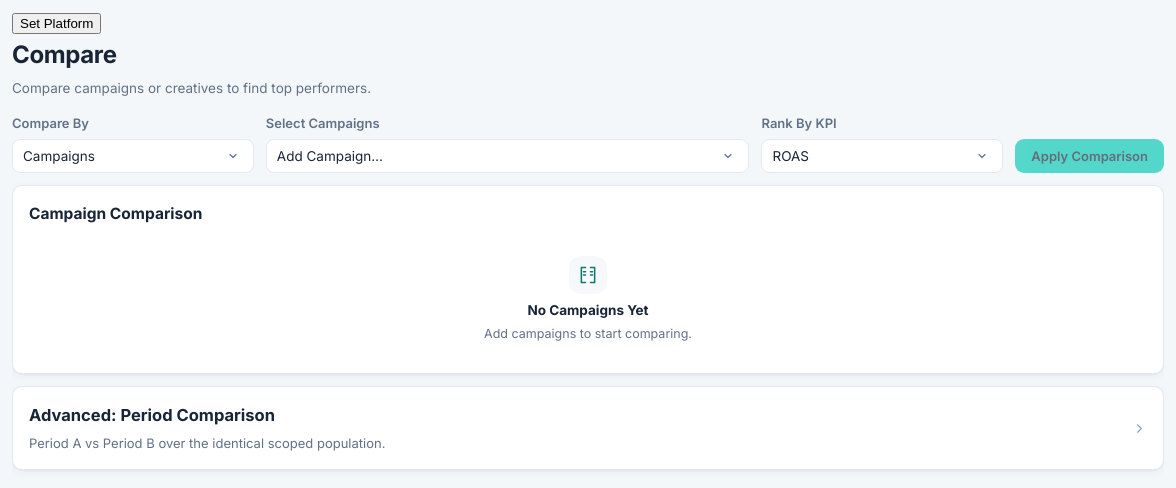
Test: ComparePage › names genuinely empty catalogues instead of an incomplete pick
Expected: the text "No Campaigns Yet" is shown, x1=527 y1=300 x2=648 y2=321
Expected: the text "Add campaigns to start comparing." is shown, x1=484 y1=325 x2=692 y2=343
Select "Creatives" in the dropdown labelled "Compare By": (133, 156) x1=12 y1=139 x2=254 y2=173
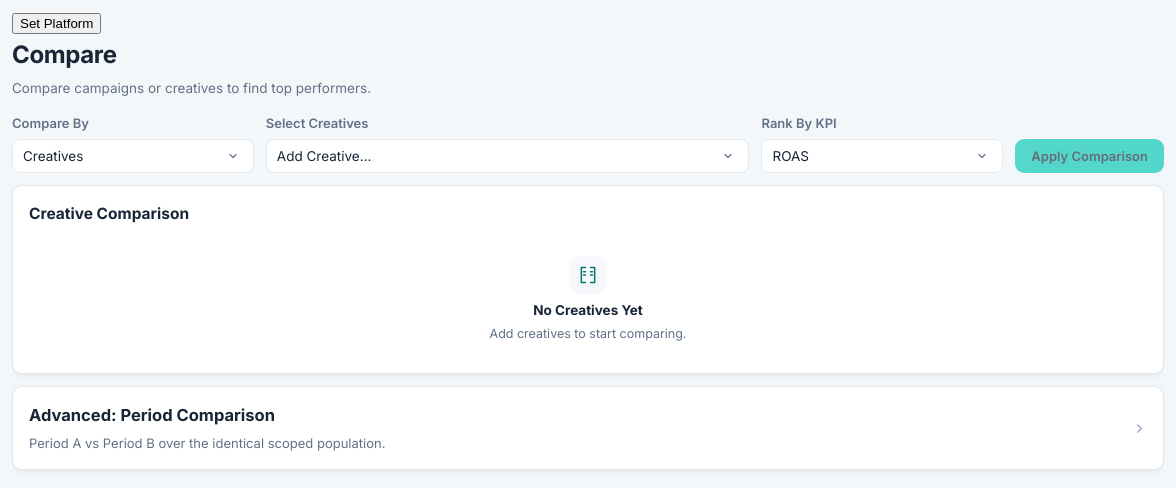
Now the text "No Creatives Yet" is shown, box x1=533 y1=300 x2=643 y2=321
Now the text "Add creatives to start comparing." is shown, box x1=490 y1=325 x2=686 y2=343
